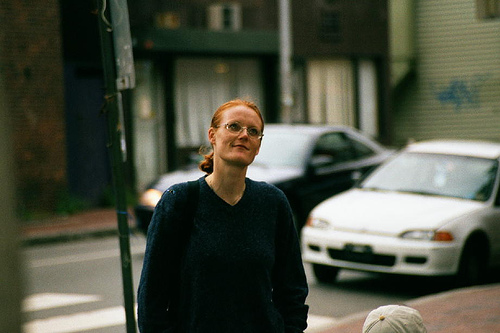without_mask: (208, 109, 263, 171)
